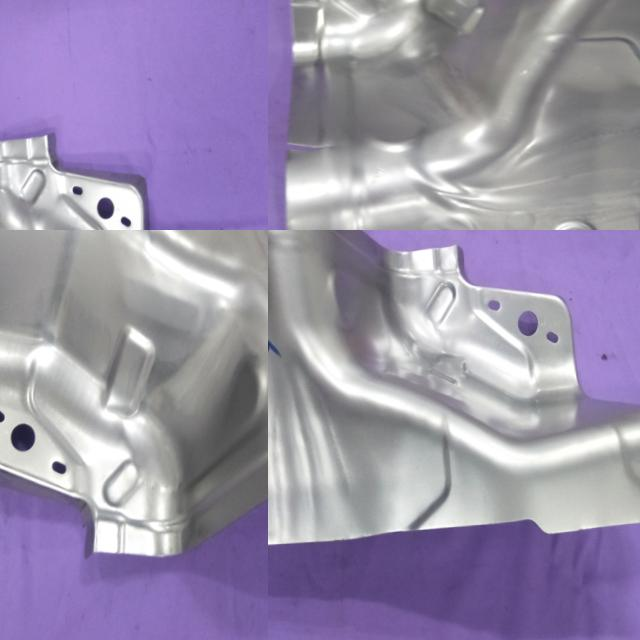Defect: (272, 122, 354, 164)
Healthy: (268, 230, 640, 563), (0, 230, 268, 569), (0, 122, 207, 230)
